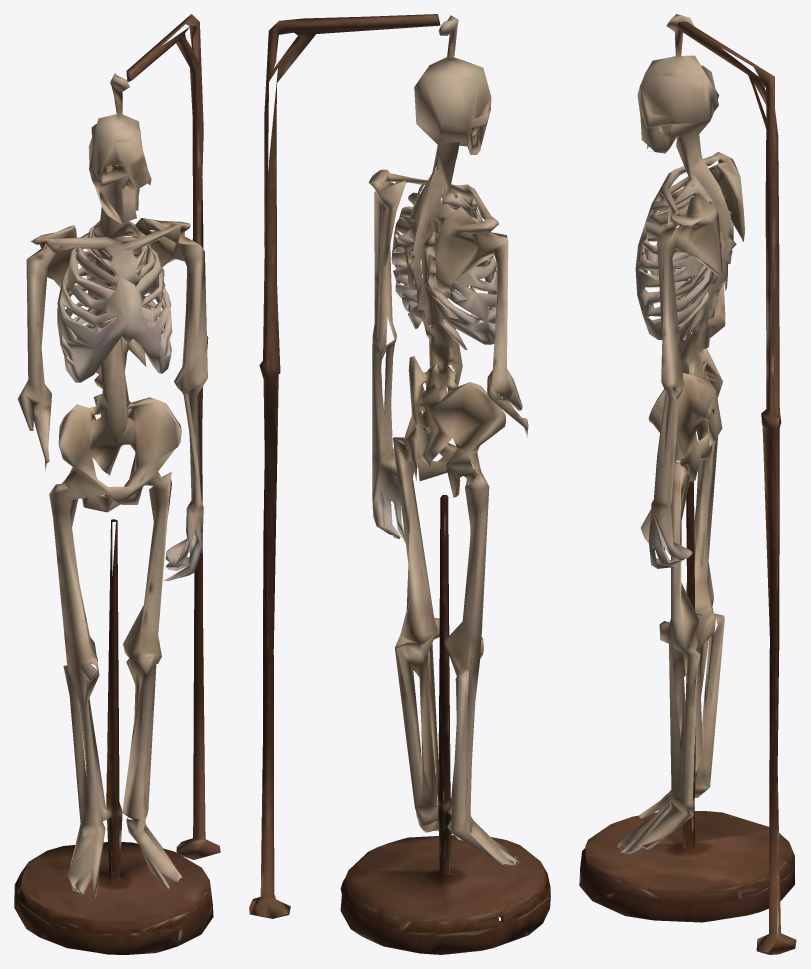
Rendered from esqueleto.movil.glb.
The picture shows the model from 3 angles, left to right: view 1: azimuth 30°, elevation 25°; view 2: azimuth 150°, elevation 25°; view 3: azimuth 270°, elevation 25°; orthographic projection. The views are drawn at different scales.
Parts seen in each view (by area): view 1: geometry_0; view 2: geometry_0; view 3: geometry_0.
Boxes of the visible parts, x1=… form: geometry_0: x1=14, y1=14, x2=220, y2=954; geometry_0: x1=249, y1=14, x2=550, y2=954; geometry_0: x1=579, y1=14, x2=796, y2=954.
Size of the model in its own units: 0.497 by 1.75 by 0.3963.
1 material, 1 textured.
